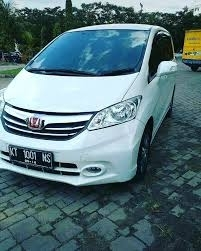plate: (9, 145, 53, 168)
